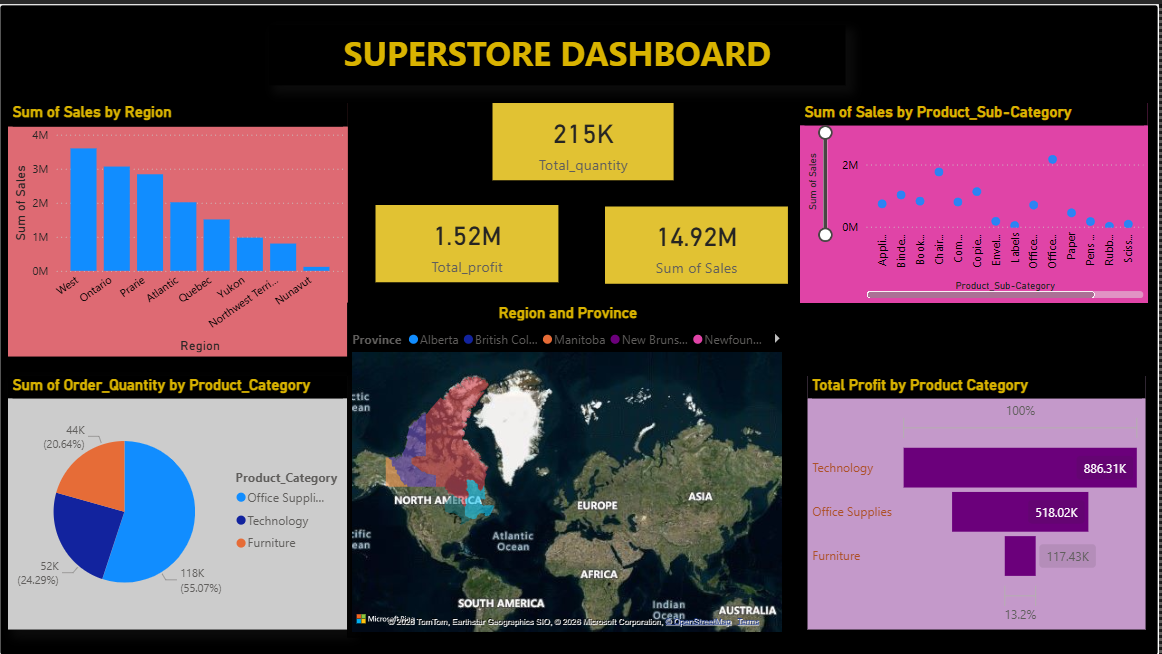

What the dashboard file says about the page in this screenshot:
{"tool":"powerbi","page":{"name":"Page 1","canvas":[1280,720],"ordinal":0},"visuals":[{"type":"clusteredColumnChart","fields":{"Y":["Sum(superstore_sales_Data.Sales)"],"Category":["superstore_sales_Data.Region"]},"box":[10,110,375,280],"z":0},{"type":"pieChart","fields":{"Category":["superstore_sales_Data.Product_Category"],"Y":["Sum(superstore_sales_Data.Order_Quantity)"]},"box":[9.9,410.8,374.4,279.9],"z":1000},{"type":"funnel","title":"Total Profit by Product Category","fields":{"Category":["superstore_sales_Data.Product_Category","superstore_sales_Data.Product_Sub-Category"],"Y":["Sum(superstore_sales_Data.Profit)"]},"box":[893.3,410,373.3,280],"z":2000},{"type":"filledMap","fields":{"Category":["superstore_sales_Data.Region"],"Series":["superstore_sales_Data.Province"]},"box":[385,330,486.7,370],"z":3000},{"type":"card","fields":{"Values":["Sum(superstore_sales_Data.Sales)"]},"box":[670,223.3,201.7,85],"z":4000},{"type":"card","fields":{"Values":["superstore_sales_Data.Total_profit"]},"box":[415,221.7,201.7,85],"z":5000},{"type":"card","fields":{"Values":["superstore_sales_Data.Total_quantity"]},"box":[545,110,200,85],"z":6000},{"type":"textbox","box":[298.3,23.3,636.7,66.7],"z":7000},{"type":"scatterChart","fields":{"X":["superstore_sales_Data.Product_Sub-Category"],"Y":["Sum(superstore_sales_Data.Sales)"]},"box":[884.6,109.3,384.3,220.3],"z":8000}]}

Visuals, with their boxes in screenshot pixels (x1, y1, x2, y2), scaled from the page's 1280x720 canvas onto the 1162x654 screenshot:
clusteredColumnChart - Sum(superstore_sales_Data.Sales) x superstore_sales_Data.Region: x1=9 y1=100 x2=350 y2=354
pieChart - superstore_sales_Data.Product_Category x Sum(superstore_sales_Data.Order_Quantity): x1=9 y1=373 x2=349 y2=627
"Total Profit by Product Category" funnel: x1=811 y1=372 x2=1150 y2=627
filledMap - superstore_sales_Data.Region x superstore_sales_Data.Province: x1=350 y1=300 x2=791 y2=636
card - Sum(superstore_sales_Data.Sales): x1=608 y1=203 x2=791 y2=280
card - superstore_sales_Data.Total_profit: x1=377 y1=201 x2=560 y2=279
card - superstore_sales_Data.Total_quantity: x1=495 y1=100 x2=676 y2=177
textbox: x1=271 y1=21 x2=849 y2=82
scatterChart - superstore_sales_Data.Product_Sub-Category x Sum(superstore_sales_Data.Sales): x1=803 y1=99 x2=1152 y2=299
